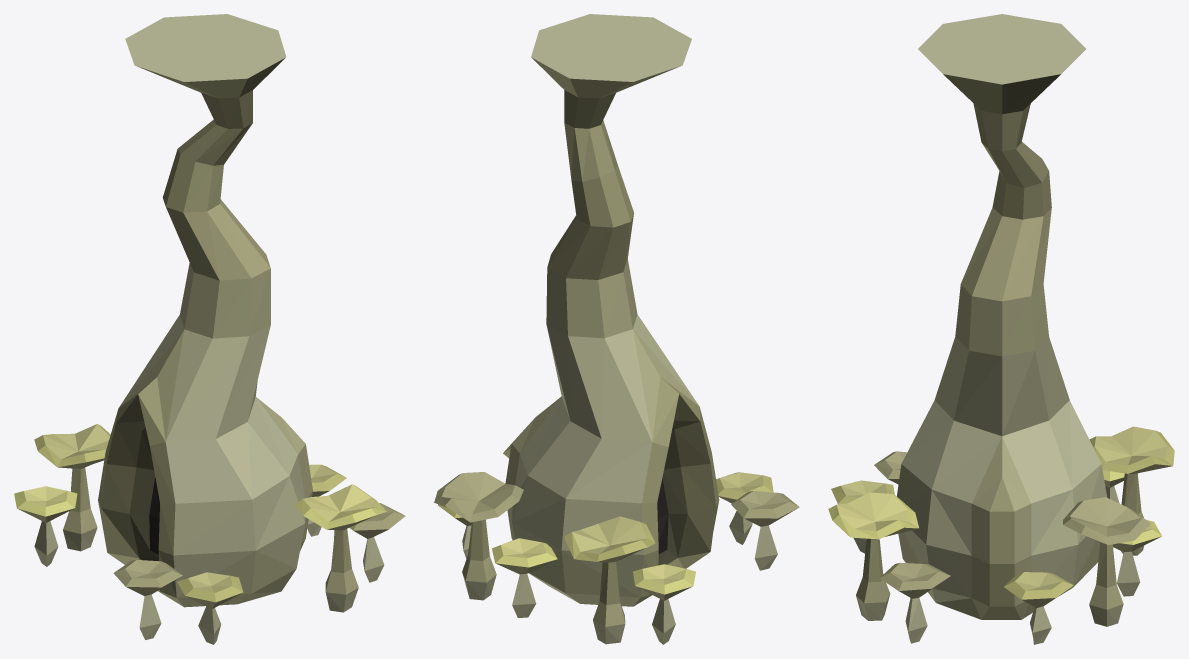
File: mycelium-transport.gltf
3 views of the same model, side by side, from view 1: azimuth 30°, elevation 25°; view 2: azimuth 150°, elevation 25°; view 3: azimuth 270°, elevation 25° (orthographic).
Size of the model in its own units: 241 by 426 by 251.
1 material, 1 textured.
